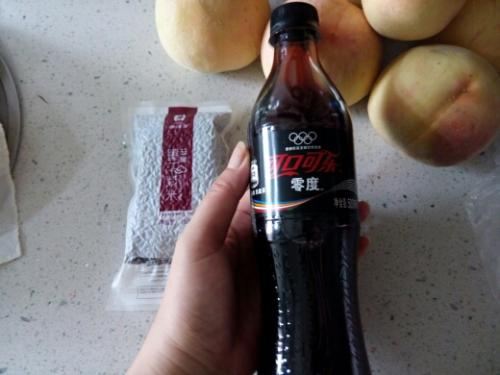coke_zero: (236, 2, 368, 375)
